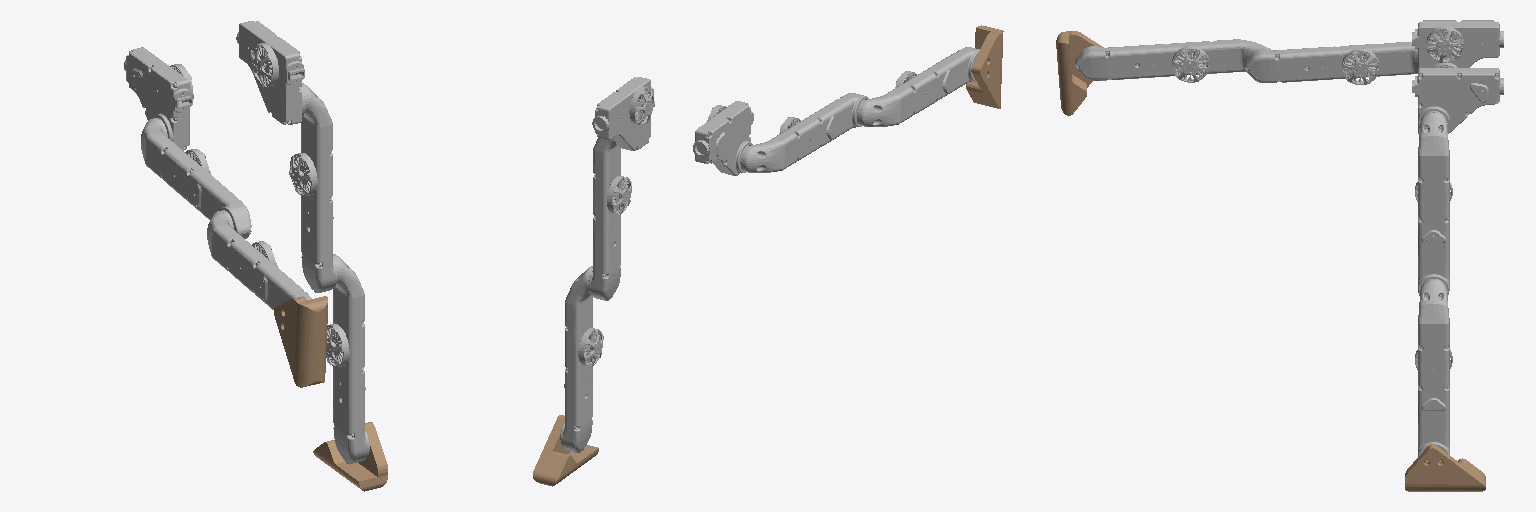
robot.urdf — dodobot_v3:
<?xml version="1.0" encoding="utf-8"?>
<!-- Collision geometry simplified, mimic joints removed, and joint axis alignment corrected -->
<robot
  name="dodobot_v3">

  <!-- ====================== body_link ====================== -->
  <link
    name="body_link">
    <inertial>
      <origin
        xyz="-0.0049584 0.034185 -0.011531"
        rpy="0 0 0" />
      <mass
        value="3.9306" />
      <inertia
        ixx="0.0051203"
        ixy="-3.2645E-06"
        ixz="1.1521E-05"
        iyy="0.0079906"
        iyz="-5.4762E-05"
        izz="0.0096283" />
    </inertial>

    <visual>
      <origin
        xyz="0 0 0"
        rpy="0 0 0" />
      <geometry>
        <mesh
          filename="package://dodobot_v3/meshes/body_link.STL" />
      </geometry>
      <material
        name="">
        <color
          rgba="0.72941 0.60784 0.4902 1" />
      </material>
    </visual>

    <collision> <!-- Simplified collision to box -->
      <origin
        xyz="0 0.0135 0"
        rpy="0 0 0" />
      <geometry>
        <box
          size="0.21 0.29 0.24" />
      </geometry>
    </collision>
  </link>

  <!-- ====================== right_link_1 ====================== -->
  <link
    name="right_link_1">
    <inertial>
      <origin
        xyz="0.0026476 -0.011738 0.0034333"
        rpy="0 0 0" />
      <mass
        value="0.087539" />
      <inertia
        ixx="6.8203E-05"
        ixy="2.0289E-07"
        ixz="2.4503E-07"
        iyy="4.507E-05"
        iyz="-9.4499E-06"
        izz="2.9112E-05" />
    </inertial>

    <visual>
      <origin
        xyz="0 0 0"
        rpy="0 0 0" />
      <geometry>
        <mesh
          filename="package://dodobot_v3/meshes/right_link_1.STL" />
      </geometry>
      <material
        name="">
        <color
          rgba="0.75294 0.75294 0.75294 1" />
      </material>
    </visual>

    <collision> <!-- Simplified collision to capsule -->
      <origin
        xyz="0 0 0"
        rpy="0 0 0" />
      <geometry>
        <capsule
          radius="0.026"
          length="0.09" />
      </geometry>
    </collision>
  </link>

  <joint
    name="right_joint_1"
    type="revolute">
    <origin
      xyz="0.066 0 -0.092"
      rpy="1.5708 0 3.1416" />
    <parent
      link="body_link" />
    <child
      link="right_link_1" />
    <axis
      xyz="0 0 -1" />
    <limit
      lower="-0.3"
      upper="0.3"
      effort="3"
      velocity="5" />
    <calibration
      rising="0"
      falling="0" />
    <dynamics
      damping="0"
      friction="0" />
    <safety_controller
      soft_upper_limit="0"
      soft_lower_limit="0"
      k_position="0"
      k_velocity="0" />
  </joint>

  <!-- ====================== right_link_2 ====================== -->
  <link
    name="right_link_2">
    <inertial>
      <origin
        xyz="0.1097 -2.065E-05 0.033704"
        rpy="0 0 0" />
      <mass
        value="0.10378" />
      <inertia
        ixx="1.6817E-05"
        ixy="-6.9682E-08"
        ixz="-1.2798E-05"
        iyy="0.00026178"
        iyz="-1.158E-08"
        izz="0.00026814" />
    </inertial>

    <visual>
      <origin
        xyz="0 0 0"
        rpy="0 0 0" />
      <geometry>
        <mesh
          filename="package://dodobot_v3/meshes/right_link_2.STL" />
      </geometry>
      <material
        name="">
        <color
          rgba="0.75294 0.75294 0.75294 1" />
      </material>
    </visual>

    <collision> <!-- Simplified collision to capsule -->
      <origin
        xyz="0.1 0 0.021"
        rpy="0 1.5708 0" />
      <geometry>
        <capsule
          radius="0.03"
          length="0.18" />
      </geometry>
    </collision>
  </link>

  <joint
    name="right_joint_2"
    type="revolute">
    <origin
      xyz="0 -0.04009 -0.01705"
      rpy="1.5708 0 -1.5708" />
    <parent
      link="right_link_1" />
    <child
      link="right_link_2" />
    <axis
      xyz="0 0 1" />
    <limit
      lower="-1.5"
      upper="1.5"
      effort="3"
      velocity="5" />
    <calibration
      rising="0"
      falling="0" />
    <dynamics
      damping="0"
      friction="0" />
    <safety_controller
      soft_upper_limit="0"
      soft_lower_limit="0"
      k_position="0"
      k_velocity="0" />
  </joint>

  <!-- ====================== right_link_3 ====================== -->
  <link
    name="right_link_3">
    <inertial>
      <origin
        xyz="0.1097 -2.0643E-05 0.020754"
        rpy="0 0 0" />
      <mass
        value="0.10378" />
      <inertia
        ixx="1.6823E-05"
        ixy="-6.9496E-08"
        ixz="-1.2798E-05"
        iyy="0.00026179"
        iyz="-1.1565E-08"
        izz="0.00026814" />
    </inertial>

    <visual>
      <origin
        xyz="0 0 0"
        rpy="0 0 0" />
      <geometry>
        <mesh
          filename="package://dodobot_v3/meshes/right_link_3.STL" />
      </geometry>
      <material
        name="">
        <color
          rgba="0.75294 0.75294 0.75294 1" />
      </material>
    </visual>

    <collision> <!-- Simplified collision to capsule -->
      <origin
        xyz="0.1 0 0.01"
        rpy="0 1.5708 0" />
      <geometry>
        <capsule
          radius="0.03"
          length="0.175" />
      </geometry>
    </collision>
  </link>

  <joint
    name="right_joint_3"
    type="revolute">
    <origin
      xyz="0.2 0 0.0504"
      rpy="0 0 0" />
    <parent
      link="right_link_2" />
    <child
      link="right_link_3" />
    <axis
      xyz="0 0 1" />
    <limit
      lower="-1.5"
      upper="1.5"
      effort="3"
      velocity="5" />
    <calibration
      rising="0"
      falling="0" />
    <dynamics
      damping="0"
      friction="0" />
    <safety_controller
      soft_upper_limit="0"
      soft_lower_limit="0"
      k_position="0"
      k_velocity="0" />
  </joint>

  <!-- ====================== right_link_4 ====================== -->
  <link
    name="right_link_4">
    <inertial>
      <origin
        xyz="0.024153 0.012735 -0.0002114"
        rpy="0 0 0" />
      <mass
        value="0.076373" />
      <inertia
        ixx="5.259E-05"
        ixy="-3.6037E-06"
        ixz="3.7304E-06"
        iyy="1.9685E-05"
        iyz="3.4416E-06"
        izz="5.9438E-05" />
    </inertial>

    <visual>
      <origin
        xyz="0 0 0"
        rpy="0 0 0" />
      <geometry>
        <mesh
          filename="package://dodobot_v3/meshes/right_link_4.STL" />
      </geometry>
      <material
        name="">
        <color
          rgba="0.72941 0.60784 0.4902 1" />
      </material>
    </visual>

    <collision> <!-- Simplified collision to box -->
      <origin
        xyz="0.011 0.0135 -0.0035"
        rpy="0 0 0" />
      <geometry>
        <box
          size="0.06 0.095 0.034" />
      </geometry>
    </collision>
  </link>

  <joint
    name="right_joint_4"
    type="revolute">
    <origin
      xyz="0.2 0 0.03745"
      rpy="0 0 0" />
    <parent
      link="right_link_3" />
    <child
      link="right_link_4" />
    <axis
      xyz="0 0 1" />
    <limit
      lower="-1.5"
      upper="1.5"
      effort="3"
      velocity="5" />
    <calibration
      rising="0"
      falling="0" />
    <dynamics
      damping="0"
      friction="0" />
    <safety_controller
      soft_upper_limit="0"
      soft_lower_limit="0"
      k_position="0"
      k_velocity="0" />
  </joint>

    <!-- ====================== left_link_1 ====================== -->
  <link
    name="left_link_1">
    <inertial>
      <origin
        xyz="-0.0026466 -0.011737 0.0034336"
        rpy="0 0 0" />
      <mass
        value="0.087538" />
      <inertia
        ixx="6.8201E-05"
        ixy="-2.03E-07"
        ixz="-2.4518E-07"
        iyy="4.5069E-05"
        iyz="-9.451E-06"
        izz="2.9111E-05" />
    </inertial>

    <visual>
      <origin
        xyz="0 0 0"
        rpy="0 0 0" />
      <geometry>
        <mesh
          filename="package://dodobot_v3/meshes/left_link_1.STL" />
      </geometry>
      <material
        name="">
        <color
          rgba="0.75294 0.75294 0.75294 1" />
      </material>
    </visual>

    <collision> <!-- Simplified collision to capsule -->
      <origin
        xyz="0 0 0"
        rpy="0 0 0" />
      <geometry>
        <capsule
          radius="0.026"
          length="0.09" />
      </geometry>
    </collision>
  </link>

  <joint
    name="left_joint_1"
    type="revolute">
    <origin
      xyz="-0.066 0 -0.092"
      rpy="1.5708 0 3.1416" />
    <parent
      link="body_link" />
    <child
      link="left_link_1" />
    <axis
      xyz="0 0 1" />
    <limit
      lower="-0.3"
      upper="0.3"
      effort="3"
      velocity="5" />
    <calibration
      rising="0"
      falling="0" />
    <dynamics
      damping="0"
      friction="0" />
    <safety_controller
      soft_upper_limit="0"
      soft_lower_limit="0"
      k_position="0"
      k_velocity="0" />
  </joint>

  <!-- ====================== left_link_2 ====================== -->
  <link
    name="left_link_2">
    <inertial>
      <origin
        xyz="0.1097 2.062E-05 -0.020754"
        rpy="0 0 0" />
      <mass
        value="0.10378" />
      <inertia
        ixx="1.6817E-05"
        ixy="6.9493E-08"
        ixz="1.2798E-05"
        iyy="0.00026179"
        iyz="-1.1565E-08"
        izz="0.00026814" />
    </inertial>

    <visual>
      <origin
        xyz="0 0 0"
        rpy="0 0 0" />
      <geometry>
        <mesh
          filename="package://dodobot_v3/meshes/left_link_2.STL" />
      </geometry>
      <material
        name="">
        <color
          rgba="0.75294 0.75294 0.75294 1" />
      </material>
    </visual>

    <collision> <!-- Simplified collision to capsule -->
      <origin
        xyz="0.1 0 -0.01"
        rpy="0 1.5708 0" />
      <geometry>
        <capsule
          radius="0.03"
          length="0.185" />
      </geometry>
    </collision>
  </link>

  <joint
    name="left_joint_2"
    type="revolute">
    <origin
      xyz="0.01295 -0.04009 -0.01705"
      rpy="1.5708 0 -1.5708" />
    <parent
      link="left_link_1" />
    <child
      link="left_link_2" />
    <axis
      xyz="0 0 1" />
    <limit
      lower="-1.5"
      upper="-1.5"
      effort="3"
      velocity="5" />
    <calibration
      rising="0"
      falling="0" />
    <dynamics
      damping="0"
      friction="0" />
    <safety_controller
      soft_upper_limit="0"
      soft_lower_limit="0"
      k_position="0"
      k_velocity="0" />
  </joint>

  <!-- ====================== left_link_3 ====================== -->
  <link
    name="left_link_3">
    <inertial>
      <origin
        xyz="0.1097 2.0626E-05 -0.020754"
        rpy="0 0 0" />
      <mass
        value="0.10378" />
      <inertia
        ixx="1.6824E-05"
        ixy="6.9507E-08"
        ixz="1.2798E-05"
        iyy="0.00026179"
        iyz="-1.1565E-08"
        izz="0.00026814" />
    </inertial>

    <visual>
      <origin
        xyz="0 0 0"
        rpy="0 0 0" />
      <geometry>
        <mesh
          filename="package://dodobot_v3/meshes/left_link_3.STL" />
      </geometry>
      <material
        name="">
        <color
          rgba="0.75294 0.75294 0.75294 1" />
      </material>
    </visual>

    <collision> <!-- Simplified collision to capsule -->
      <origin
        xyz="0.1 0 -0.01"
        rpy="0 1.5708 0" />
      <geometry>
        <capsule
          radius="0.03"
          length="0.175" />
      </geometry>
    </collision>
  </link>

  <joint
    name="left_joint_3"
    type="revolute">
    <origin
      xyz="0.2 0 -0.03745"
      rpy="0 0 0" />
    <parent
      link="left_link_2" />
    <child
      link="left_link_3" />
    <axis
      xyz="0 0 1" />
    <limit
      lower="-1.5"
      upper="1.5"
      effort="3"
      velocity="5" />
    <calibration
      rising="0"
      falling="0" />
    <dynamics
      damping="0"
      friction="0" />
    <safety_controller
      soft_upper_limit="0"
      soft_lower_limit="0"
      k_position="0"
      k_velocity="0" />
  </joint>

    <!-- ====================== left_link_4 ====================== -->
  <link
    name="left_link_4">
    <inertial>
      <origin
        xyz="0.024153 0.012735 0.00021302"
        rpy="0 0 0" />
      <mass
        value="0.076373" />
      <inertia
        ixx="5.259E-05"
        ixy="-3.6036E-06"
        ixz="-3.7303E-06"
        iyy="1.9685E-05"
        iyz="-3.4416E-06"
        izz="5.9438E-05" />
    </inertial>

    <visual>
      <origin
        xyz="0 0 0"
        rpy="0 0 0" />
      <geometry>
        <mesh
          filename="package://dodobot_v3/meshes/left_link_4.STL" />
      </geometry>
      <material
        name="">
        <color
          rgba="0.72941 0.60784 0.4902 1" />
      </material>
    </visual>

    <collision> <!-- Simplified collision to box -->
      <origin
        xyz="0.011 0.0135 0.0035"
        rpy="0 0 0" />
      <geometry>
        <box
          size="0.06 0.095 0.034" />
      </geometry>
    </collision>
  </link>

  <!-- ========== left_joint_4 ========== -->
  <joint
    name="left_joint_4"
    type="revolute">
    <origin
      xyz="0.2 0 -0.03745"
      rpy="0 0 0" />
    <parent
      link="left_link_3" />
    <child
      link="left_link_4" />
    <axis
      xyz="0 0 1" />
    <limit
      lower="-1.5"
      upper="1.5"
      effort="3"
      velocity="5" />
    <calibration
      rising="0"
      falling="0" />
    <dynamics
      damping="0"
      friction="0" />
    <safety_controller
      soft_upper_limit="0"
      soft_lower_limit="0"
      k_position="0"
      k_velocity="0" />
  </joint>

</robot>

--- Render facts (derived) ---
3 views of the same robot in one strip: view 1: azimuth 30°, elevation 25°; view 2: azimuth 150°, elevation 25°; view 3: azimuth 270°, elevation 25° (orthographic).
Model dodobot_v3 with 9 links and 8 joints (8 revolute), rooted at body_link, posed joints at zero except 1 at the middle of their limits (left_joint_2 = -1.5).
Visible links, largest first — view 1: right_link_2, right_link_3, left_link_2, right_link_1, left_link_3, left_link_1, left_link_4, right_link_4; view 2: right_link_3, right_link_2, left_link_2, left_link_3, right_link_1, left_link_1, left_link_4, right_link_4; view 3: left_link_3, left_link_2, right_link_2, right_link_3, right_link_1, left_link_1, right_link_4, left_link_4.
Boxes of the visible links, x1,y1,x2,y2 form: right_link_2: (289, 83, 337, 292); right_link_3: (326, 254, 369, 463); left_link_2: (141, 118, 251, 238); right_link_1: (236, 21, 305, 124); left_link_3: (207, 210, 311, 309); left_link_1: (124, 47, 193, 150); left_link_4: (274, 296, 327, 387); right_link_4: (313, 422, 387, 491); right_link_3: (560, 266, 603, 452); right_link_2: (589, 138, 631, 300); left_link_2: (740, 93, 868, 172); left_link_3: (857, 47, 979, 126); right_link_1: (592, 77, 654, 150); left_link_1: (693, 101, 753, 175); left_link_4: (966, 25, 1003, 108); right_link_4: (533, 415, 598, 486); left_link_3: (1075, 39, 1270, 82); left_link_2: (1245, 42, 1417, 84); right_link_2: (1415, 111, 1452, 295); right_link_3: (1415, 279, 1452, 456); right_link_1: (1412, 62, 1503, 133); left_link_1: (1412, 20, 1503, 68); right_link_4: (1405, 444, 1485, 491); left_link_4: (1056, 31, 1103, 115).
Size in the robot's own frame: 0.3347 by 0.5258 by 0.5051 metres.
Meshes: 9 distinct files referenced, 8 mesh visuals loaded (8 binary STL); not drawn: 1 (reference not matched to a file when rendering).
